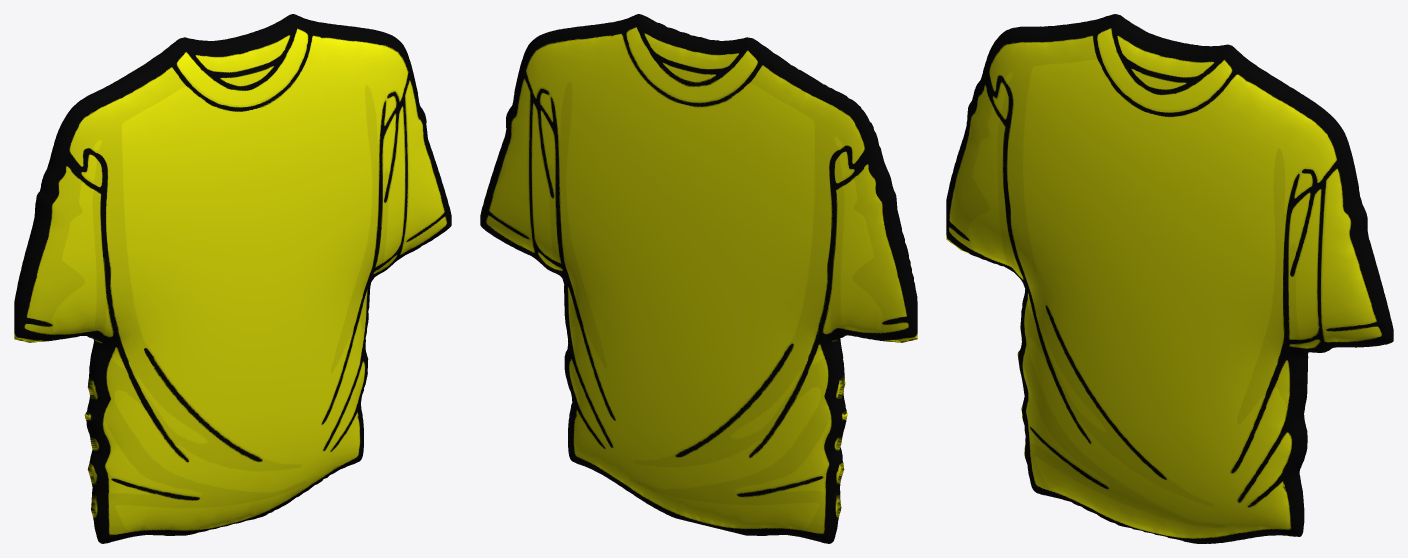
Rendered from 70-707438_blank-t-shirt-back-yellow-shirt-clipart.glb.
The picture shows the model from 3 angles, left to right: view 1: azimuth 30°, elevation 25°; view 2: azimuth 150°, elevation 25°; view 3: azimuth 330°, elevation 25°; orthographic projection. The views are drawn at different scales.
Parts seen in each view (by area): view 1: 70-707438_blank-t-shirt-back-yellow-shirt-clipart; view 2: 70-707438_blank-t-shirt-back-yellow-shirt-clipart; view 3: 70-707438_blank-t-shirt-back-yellow-shirt-clipart.
Boxes of the visible parts, bbox=[...] form: 70-707438_blank-t-shirt-back-yellow-shirt-clipart: bbox=[14, 14, 451, 543]; 70-707438_blank-t-shirt-back-yellow-shirt-clipart: bbox=[480, 14, 917, 543]; 70-707438_blank-t-shirt-back-yellow-shirt-clipart: bbox=[946, 14, 1393, 543].
Bounding box in the file's own units: 1.84 × 2 × 0.2777.
1 material, 1 textured.
